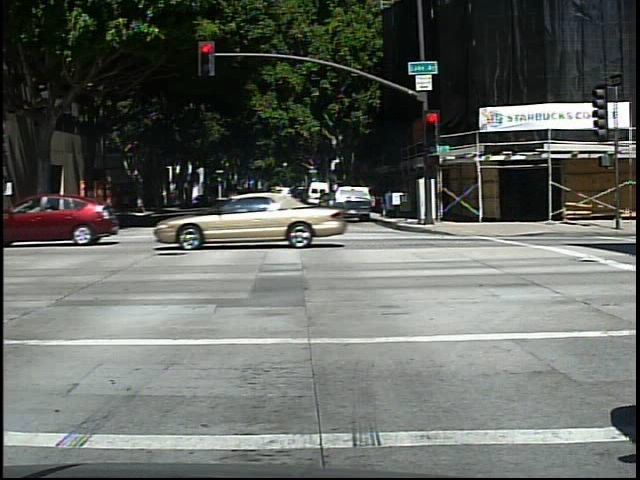person: (81, 184, 110, 237)
